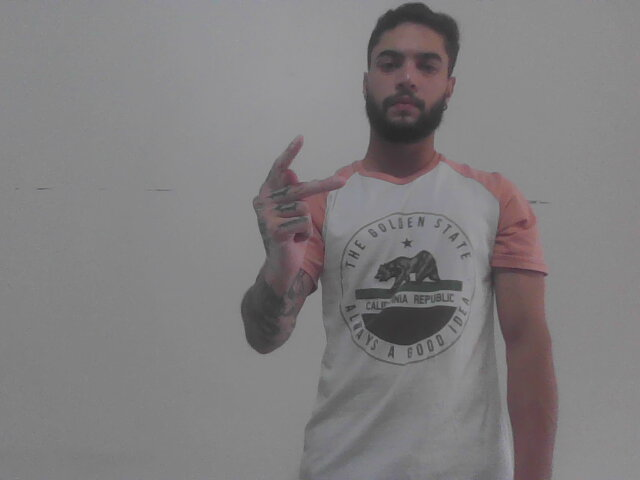h: (250, 130, 345, 281)
